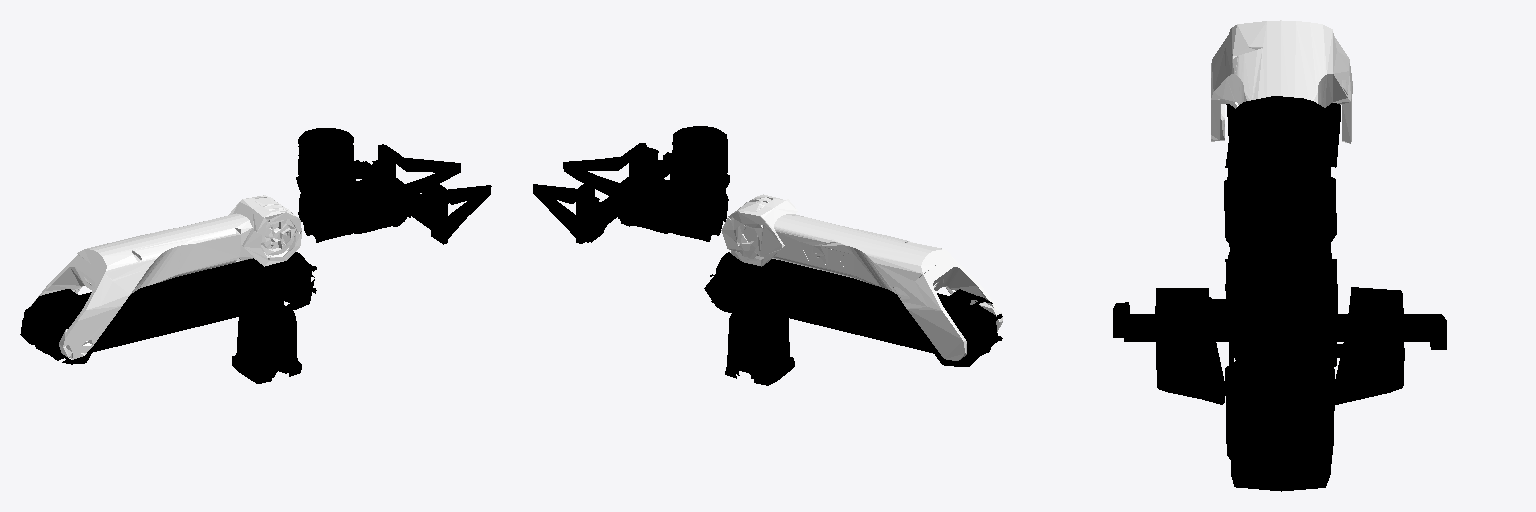
URDF robot description (X5A):
<?xml version='1.0' encoding='utf-8'?>
<robot name="X5A">
  <link name="base_link">
    <inertial>
      <origin xyz="-3.0001E-05 3.0589E-05 0.027324" rpy="0 0 0" />
      <mass value="0.43995" />
      <inertia ixx="0.00017" ixy="0.00000" ixz="0.00000" iyy="0.00017" iyz="0.00000" izz="0.00016" />
    </inertial>
    <visual>
      <origin xyz="0 0 0" rpy="0 0 0" />
      <geometry>
        <mesh filename="meshes/base_link.STL" />
      </geometry>
      <material name="black">
        <color rgba="0 0 0 1" />
      </material>
    </visual>
    <collision>
      <origin xyz="0 0 0" rpy="0 0 0" />
      <geometry>
        <mesh filename="meshes/base_link.STL" />
      </geometry>
    </collision>
  </link>
  <link name="link1">
    <inertial>
      <origin xyz="0.0054231 -0.0080289 0.017086" rpy="0 0 0" />
      <mass value="0.066982" />
      <inertia ixx="0.00008" ixy="0.00000" ixz="0.00001" iyy="0.00003" iyz="0.00000" izz="0.00008" />
    </inertial>
    <visual>
      <origin xyz="0 0 0" rpy="0 0 0" />
      <geometry>
        <mesh filename="meshes/link1.STL" />
      </geometry>
      <material name="black">
        <color rgba="0 0 0 1" />
      </material>
    </visual>
    <collision>
      <origin xyz="0 0 0" rpy="0 0 0" />
      <geometry>
        <mesh filename="meshes/link1.STL" />
      </geometry>
    </collision>
  </link>
  <joint name="joint1" type="revolute">
    <origin xyz="0 0 0.0605" rpy="0 0 0" />
    <parent link="base_link" />
    <child link="link1" />
    <axis xyz="0 0 1" />
    <limit lower="-10" upper="10" effort="100" velocity="1000" />
  </joint>
  <link name="link2">
    <inertial>
      <origin xyz="-0.13237 0.0020852 0.00010549" rpy="0 0 0" />
      <mass value="1.0795" />
      <inertia ixx="0.00051" ixy="0.00001" ixz="-0.00004" iyy="0.01599" iyz="0.00000" izz="0.01605" />
    </inertial>
    <visual>
      <origin xyz="0 0 0" rpy="0 0 0" />
      <geometry>
        <mesh filename="meshes/link2.STL" />
      </geometry>
      <material name="black">
        <color rgba="0 0 0 1" />
      </material>
    </visual>
    <collision>
      <origin xyz="0 0 0" rpy="0 0 0" />
      <geometry>
        <mesh filename="meshes/link2.STL" />
      </geometry>
    </collision>
  </link>
  <joint name="joint2" type="revolute">
    <origin xyz="0.02 0 0.04" rpy="0 0 0" />
    <parent link="link1" />
    <child link="link2" />
    <axis xyz="0 1 0" />
    <limit lower="-10" upper="10" effort="100" velocity="1000" />
  </joint>
  <link name="link3">
    <inertial>
      <origin xyz="0.18531 0.00068376 -0.051638" rpy="0 0 0" />
      <mass value="0.54534" />
      <inertia ixx="0.00036" ixy="-0.00003" ixz="-0.00039" iyy="0.00423" iyz="0.00001" izz="0.00420" />
    </inertial>
    <visual>
      <origin xyz="0 0 0" rpy="0 0 0" />
      <geometry>
        <mesh filename="meshes/link3.STL" />
      </geometry>
      <material name="white">
        <color rgba="1 1 1 1" />
      </material>
    </visual>
    <collision>
      <origin xyz="0 0 0" rpy="0 0 0" />
      <geometry>
        <mesh filename="meshes/link3.STL" />
      </geometry>
    </collision>
  </link>
  <joint name="joint3" type="revolute">
    <origin xyz="-0.264 0 0" rpy="3.1416 0 0" />
    <parent link="link2" />
    <child link="link3" />
    <axis xyz="0 1 0" />
    <limit lower="-10" upper="10" effort="100" velocity="1000" />
  </joint>
  <link name="link4">
    <inertial>
      <origin xyz="0.040231 0.0044807 -0.035335" rpy="0 0 0" />
      <mass value="0.11714" />
      <inertia ixx="0.00019" ixy="-0.00002" ixz="-0.00009" iyy="0.00023" iyz="0.00002" izz="0.00014" />
    </inertial>
    <visual>
      <origin xyz="0 0 0" rpy="0 0 0" />
      <geometry>
        <mesh filename="meshes/link4.STL" />
      </geometry>
      <material name="black">
        <color rgba="0 0 0 1" />
      </material>
    </visual>
    <collision>
      <origin xyz="0 0 0" rpy="0 0 0" />
      <geometry>
        <mesh filename="meshes/link4.STL" />
      </geometry>
    </collision>
  </link>
  <joint name="joint4" type="revolute">
    <origin xyz="0.245 0 -0.056" rpy="0 0 0" />
    <parent link="link3" />
    <child link="link4" />
    <axis xyz="0 1 0" />
    <limit lower="-10" upper="10" effort="100" velocity="1000" />
  </joint>
  <link name="link5">
    <inertial>
      <origin xyz="0.003612 -1.5455E-05 0.055214" rpy="0 0 0" />
      <mass value="0.63488" />
      <inertia ixx="0.00083" ixy="0.00000" ixz="0.00007" iyy="0.00082" iyz="0.00000" izz="0.00026" />
    </inertial>
    <visual>
      <origin xyz="0 0 0" rpy="0 0 0" />
      <geometry>
        <mesh filename="meshes/link5.STL" />
      </geometry>
      <material name="black">
        <color rgba="0 0 0 1" />
      </material>
    </visual>
    <collision>
      <origin xyz="0 0 0" rpy="0 0 0" />
      <geometry>
        <mesh filename="meshes/link5.STL" />
      </geometry>
    </collision>
  </link>
  <joint name="joint5" type="revolute">
    <origin xyz="0.06775 0.0005 -0.0865" rpy="0 0 0" />
    <parent link="link4" />
    <child link="link5" />
    <axis xyz="0 0 1" />
    <limit lower="-10" upper="10" effort="100" velocity="1000" />
  </joint>
  <link name="link6">
    <inertial>
      <origin xyz="0.041697 2.4368E-05 0.00014464" rpy="0 0 0" />
      <mass value="0.44089" />
      <inertia ixx="0.00038" ixy="0.00000" ixz="0.00000" iyy="0.00028" iyz="0.00000" izz="0.00050" />
    </inertial>
    <visual>
      <origin xyz="0 0 0" rpy="0 0 0" />
      <geometry>
        <mesh filename="meshes/link6.STL" />
      </geometry>
      <material name="black">
        <color rgba="0 0 0 1" />
      </material>
    </visual>
    <collision>
      <origin xyz="0 0 0" rpy="0 0 0" />
      <geometry>
        <mesh filename="meshes/link6.STL" />
      </geometry>
    </collision>
  </link>
  <joint name="joint6" type="revolute">
    <origin xyz="0.02895 0 0.0865" rpy="-3.1416 0 0" />
    <parent link="link5" />
    <child link="link6" />
    <axis xyz="1 0 0" />
    <limit lower="-3.14" upper="3.14" effort="100" velocity="1000" />
  </joint>
  <link name="camera_base">
    </link>
  <joint name="hand_to_camera_mount" type="fixed">
    <parent link="link6" />
    <child link="camera_base" />
    <origin xyz="0.057 0 0" rpy="0 0 -3.1416" />
  </joint>
  <link name="camera">
    </link>
  <joint name="camera_joint" type="fixed">
    <parent link="camera_base" />
    <child link="camera" />
    <origin xyz="-0.0275 0.0 0.05" rpy="0 0.3491 3.141592653589793" />
  </joint>
  <link name="link7">
    <inertial>
      <origin xyz="-0.00035522 -0.007827 -0.0029883" rpy="0 0 0" />
      <mass value="0.064798" />
      <inertia ixx="0.00002" ixy="0.00000" ixz="0.00000" iyy="0.00003" iyz="0.00000" izz="0.00003" />
    </inertial>
    <visual>
      <origin xyz="0 0 0" rpy="0 0 0" />
      <geometry>
        <mesh filename="meshes/link7.STL" />
      </geometry>
      <material name="black">
        <color rgba="0 0 0 1" />
      </material>
    </visual>
    <collision>
      <origin xyz="0 0 0" rpy="0 0 0" />
      <geometry>
        <mesh filename="meshes/link7.STL" />
      </geometry>
    </collision>
  </link>
  <joint name="joint7" type="prismatic">
    <origin xyz="0.08657 0.024896 -0.0002436" rpy="0 0 0" />
    <parent link="link6" />
    <child link="link7" />
    <axis xyz="0 1 0" />
    <limit lower="0" upper="0.044" effort="100" velocity="1000" />
  </joint>
  <link name="link8">
    <inertial>
      <origin xyz="-0.00035522 0.0078277 0.0024201" rpy="0 0 0" />
      <mass value="0.064798" />
      <inertia ixx="0.00002" ixy="0.00000" ixz="0.00000" iyy="0.00003" iyz="0.00000" izz="0.00003" />
    </inertial>
    <visual>
      <origin xyz="0 0 0" rpy="0 0 0" />
      <geometry>
        <mesh filename="meshes/link8.STL" />
      </geometry>
      <material name="black">
        <color rgba="0 0 0 1" />
      </material>
    </visual>
    <collision>
      <origin xyz="0 0 0" rpy="0 0 0" />
      <geometry>
        <mesh filename="meshes/link8.STL" />
      </geometry>
    </collision>
  </link>
  <joint name="joint8" type="prismatic">
    <origin xyz="0.08657 -0.0249 -0.00024366" rpy="0 0 0" />
    <parent link="link6" />
    <child link="link8" />
    <axis xyz="0 -1 0" />
    <limit lower="0" upper="0.044" effort="100" velocity="1000" />
  </joint>
</robot>

--- Facts derived from the render (not from the file) ---
The picture shows the robot from 3 angles, left to right: view 1: azimuth 30°, elevation 25°; view 2: azimuth 150°, elevation 25°; view 3: azimuth 270°, elevation 25°; orthographic projection.
Robot: X5A — 11 links, 10 joints (6 revolute, 2 prismatic, 2 fixed); root link base_link; default pose: all joints at 0.
Visible links, largest first — view 1: link3, link2, link6, link5, base_link; view 2: link3, link2, link6, link5, base_link; view 3: link6, link5, base_link, link3, link2.
Boxes of the visible links, box(x1,y1,x2,y2) form: link3: box(30, 195, 301, 359); link2: box(20, 252, 316, 364); link6: box(353, 144, 491, 244); link5: box(296, 128, 362, 242); base_link: box(232, 309, 301, 383); link3: box(721, 194, 1002, 360); link2: box(704, 252, 1002, 366); link6: box(533, 143, 672, 243); link5: box(663, 126, 729, 241); base_link: box(725, 310, 794, 385); link6: box(1113, 240, 1446, 404); link5: box(1224, 96, 1336, 287); base_link: box(1225, 359, 1334, 491); link3: box(1211, 20, 1352, 143); link2: box(1225, 103, 1340, 369).
Size in the robot's own frame: 0.5163 by 0.182 by 0.2433 metres.
5 mesh visuals loaded from 9 distinct referenced files (5 binary STL); not drawn: 4 (reference not matched to a file when rendering).
